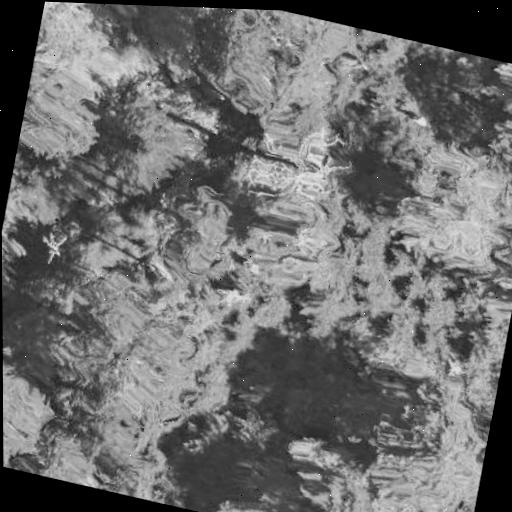tree-top: (355, 374, 496, 512), (210, 8, 354, 130), (385, 141, 512, 278), (58, 291, 171, 414), (16, 51, 116, 170), (94, 87, 198, 201), (242, 195, 347, 299), (242, 118, 343, 213), (356, 78, 440, 183), (3, 341, 66, 476), (162, 180, 241, 286), (68, 191, 157, 284), (1, 160, 81, 246), (445, 295, 512, 397), (39, 427, 117, 491), (34, 4, 103, 75), (360, 302, 423, 378), (284, 468, 391, 512), (110, 455, 192, 509), (277, 422, 348, 479), (476, 78, 512, 167), (250, 281, 299, 335), (203, 488, 283, 512), (373, 502, 462, 512), (494, 61, 512, 103), (180, 7, 222, 22)
